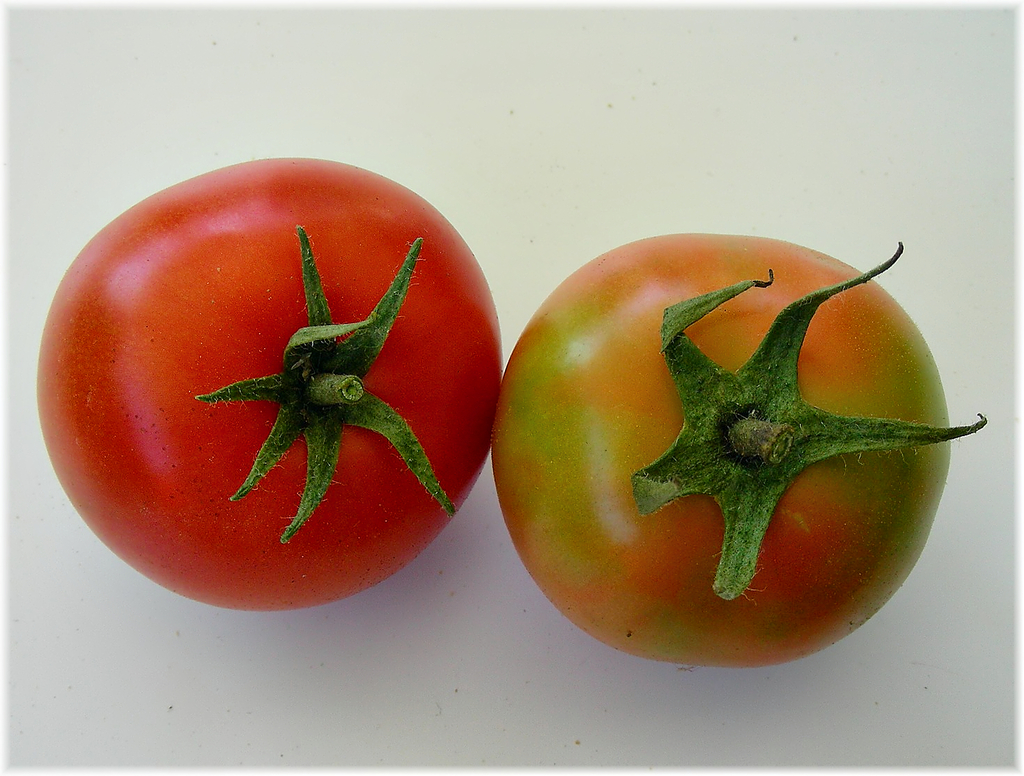Tomato: (490, 232, 987, 668), (36, 157, 503, 611)
